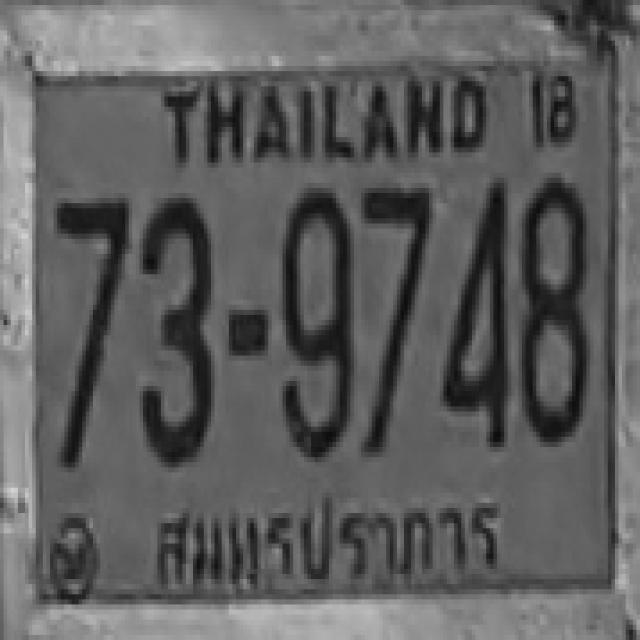3: (138, 193, 212, 462)
4: (438, 176, 506, 440)
7: (359, 183, 431, 452), (54, 193, 125, 462)
8: (518, 173, 586, 437)
9: (279, 183, 350, 452)
SamutPrakan: (146, 481, 510, 596)
